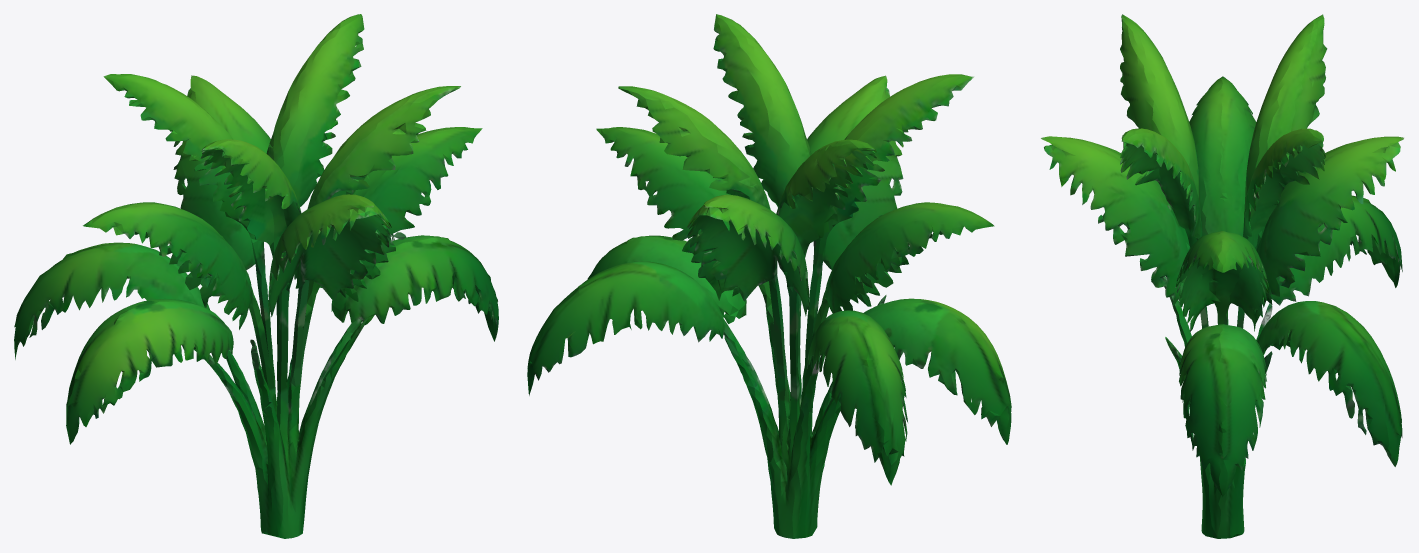
Rendered from Jungle_FernCluster.glb.
3 renders of one model, left to right at view 1: azimuth 30°, elevation 25°; view 2: azimuth 150°, elevation 25°; view 3: azimuth 270°, elevation 25°, orthographic.
Parts seen in each view (by area): view 1: Jungle_FernCluster; view 2: Jungle_FernCluster; view 3: Jungle_FernCluster.
Boxes of the visible parts, x1,y1,x2,y2 form: Jungle_FernCluster: (14,14,498,538); Jungle_FernCluster: (527,14,1011,538); Jungle_FernCluster: (1041,14,1403,538).
Bounding box in the file's own units: 1.9 × 1.89 × 1.38.
1 material, 1 textured.
